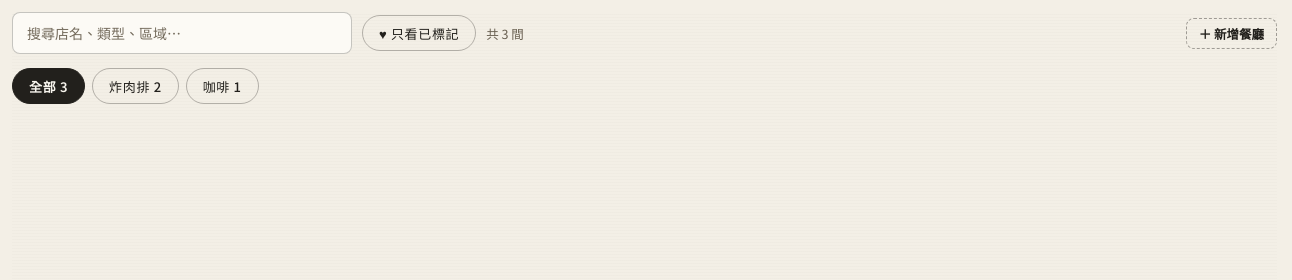
Food 就地搜尋 › 輸入命中類型時顯示分類建議，點選套用篩選並清空輸入
In the field with placeholder "搜尋店名、類型、區域…": [182, 33] box [12,12,352,54], type "炸肉"
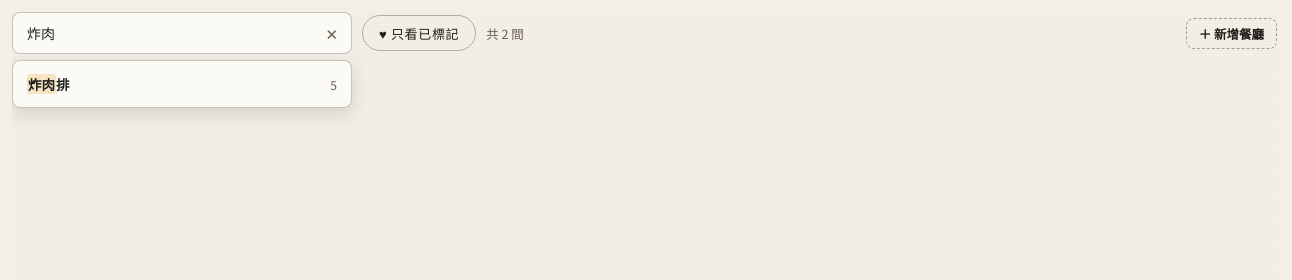
Click the button "炸肉排 5": [42, 84] box [13,65,351,103]
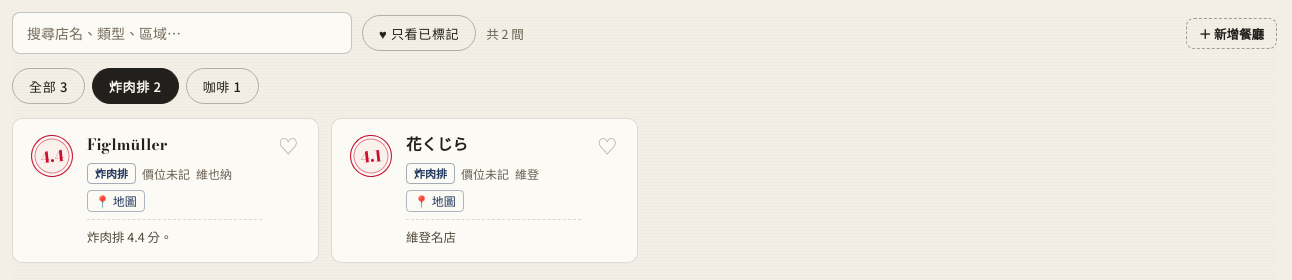
Result: the field with placeholder "搜尋店名、類型、區域…" is empty at [12,12,352,54]
Result: the text "Figlmüller" is shown at [87,133,167,156]
